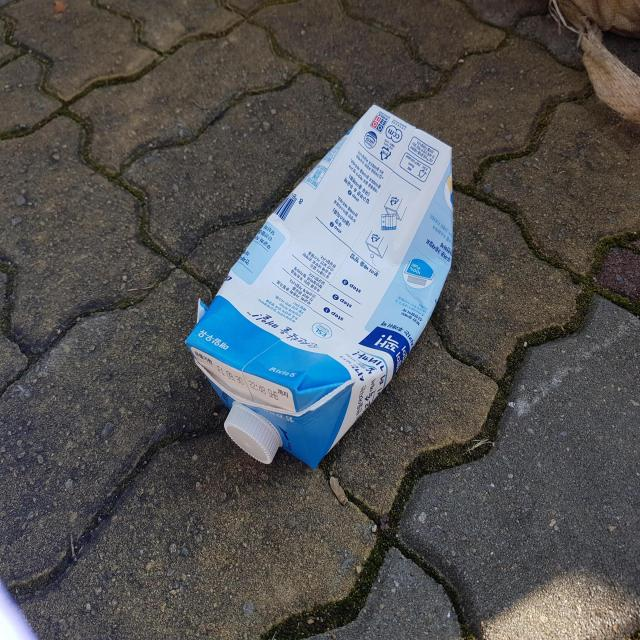paperpack: (185, 104, 454, 468)
